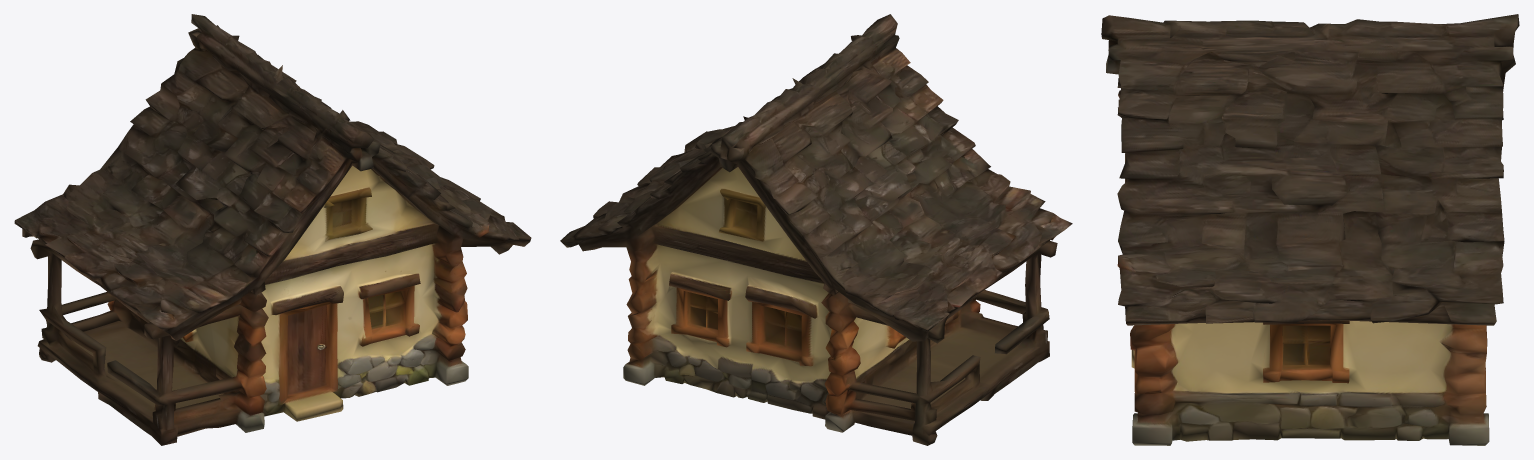
Rendered from tripo_forester_cabin.glb.
The picture shows the model from 3 angles, left to right: view 1: azimuth 30°, elevation 25°; view 2: azimuth 150°, elevation 25°; view 3: azimuth 270°, elevation 25°; orthographic projection. The views are drawn at different scales.
Parts seen in each view (by area): view 1: forester_cabin; view 2: forester_cabin; view 3: forester_cabin.
Part boxes in pixels (x1=…): forester_cabin: x1=14, y1=14, x2=531, y2=445; forester_cabin: x1=560, y1=14, x2=1072, y2=445; forester_cabin: x1=1101, y1=14, x2=1519, y2=445.
Bounding box in the file's own units: 9.58 × 7 × 7.39.
1 material, 1 textured.
